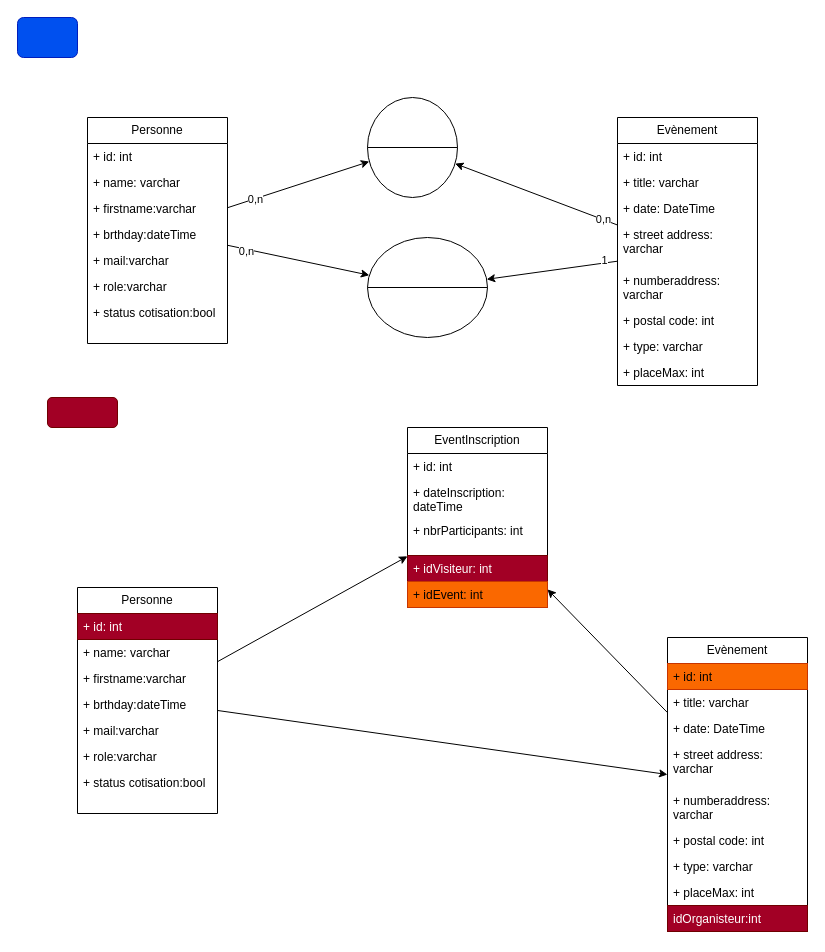
Some shapes in this 825 by 952 pixel diagram are drawn without their labels. The shapes that lost their labels are listed below. From the top down, each one's centre as x and y in pixels, then its label:
the point at 47,37: MCD
the point at 412,147: S'inscrit dateInscription listeInscription
the point at 427,287: Organise / enregistre
the point at 82,412: MLD
